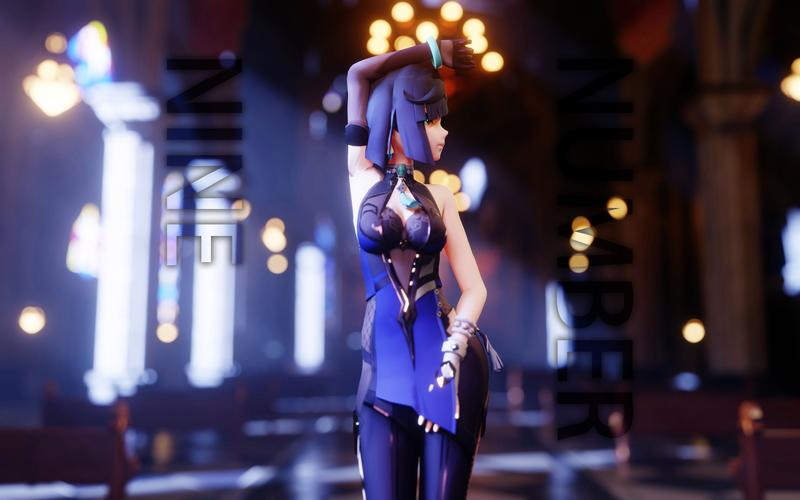夜兰: (336, 36, 487, 500)
